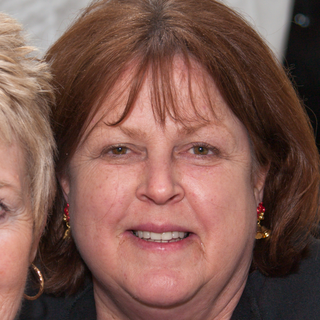eye: (177, 139, 226, 163), (97, 140, 145, 163)
